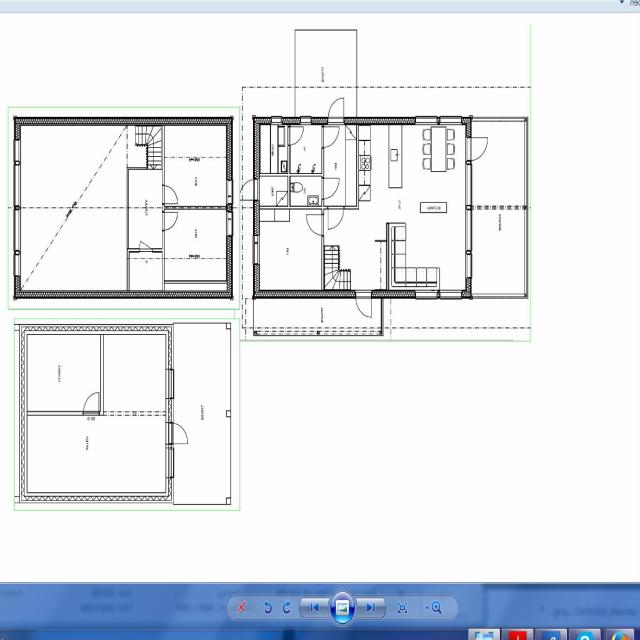door: (466, 137, 489, 160), (166, 423, 189, 444), (328, 97, 344, 125), (238, 180, 260, 200), (356, 290, 371, 318), (328, 206, 344, 230), (306, 214, 324, 235), (322, 126, 339, 147), (84, 391, 98, 416), (322, 178, 339, 198), (288, 126, 304, 145), (162, 212, 178, 230), (139, 231, 152, 252), (162, 186, 178, 203)
